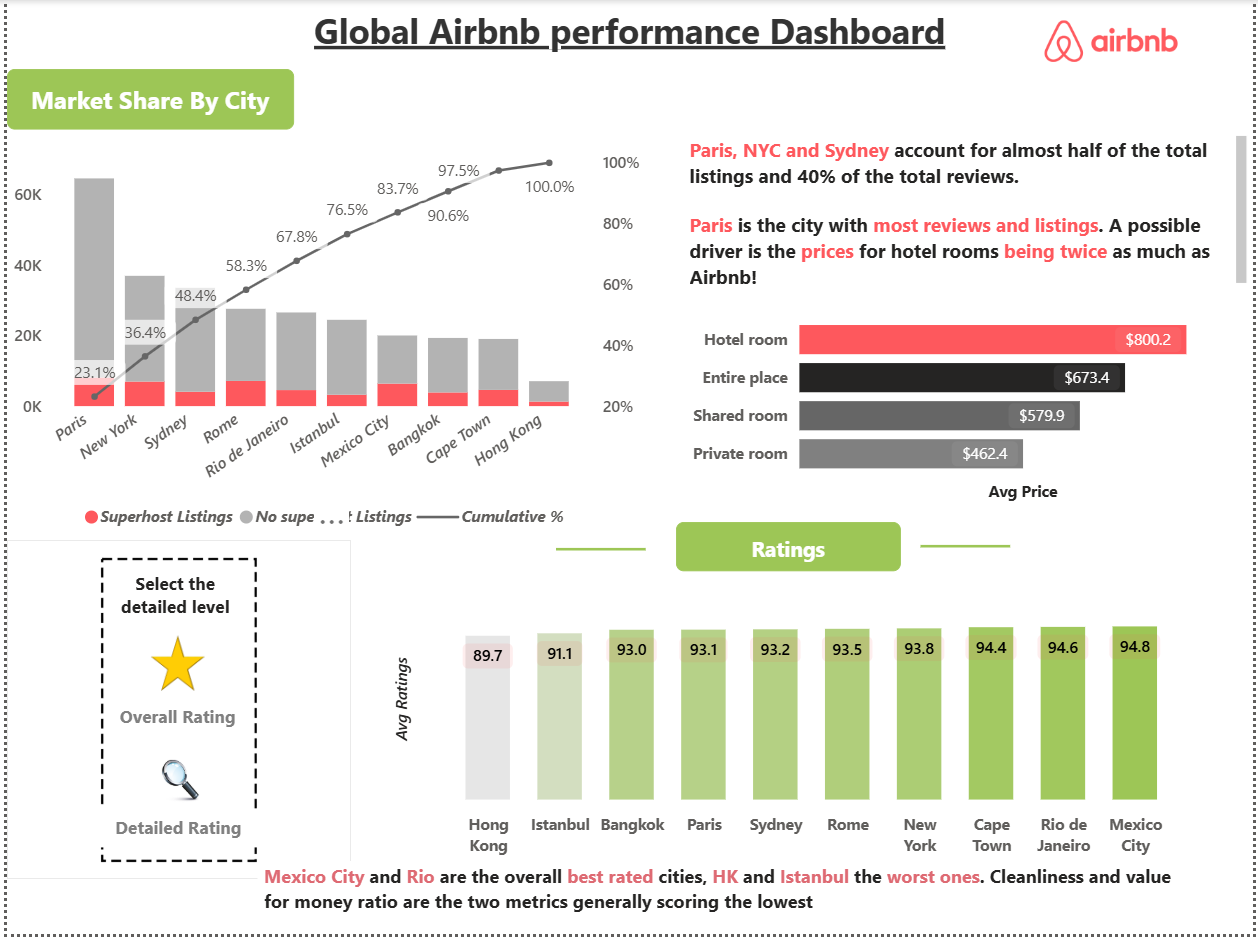

The page's visual inventory and layout, read from the dashboard file:
{"tool":"powerbi","page":{"name":"Ratings","canvas":[960,720],"ordinal":1},"visuals":[{"type":"textbox","box":[187.3,0,585.4,62.4],"z":0},{"type":"image","box":[98.6,484.1,66.9,53.3],"z":0,"group":"g2"},{"type":"image","box":[98.7,580.9,69.4,42.7],"z":0,"group":"g1"},{"type":"image","box":[772.4,9.9,157.3,42.5],"z":1000},{"type":"textbox","box":[76.7,537.4,110.6,36],"z":1000,"group":"g2"},{"type":"textbox","box":[70.4,623.6,123.2,30.2],"z":1000,"group":"g1"},{"type":"textbox","box":[0,52.8,221.3,46.5],"z":2000},{"type":"lineStackedColumnComboChart","fields":{"Y":["Listings.Superhost Listings","Listings.No superhost Listings"],"Category":["Listings.city"],"Y2":["Listings.Cumulative %"]},"box":[0,108.1,492.9,308],"z":3000},{"type":"barChart","fields":{"Y":["Listings.Avg Price"],"Category":["Listings.room_type"]},"box":[521.8,225.1,438.8,166],"z":4000},{"type":"textbox","box":[521.8,99.3,438.8,125.7],"z":5000},{"type":"image","box":[0,416.2,265.3,261.5],"z":6000},{"type":"textbox","box":[76.7,435,106.9,49],"z":7000},{"type":"textbox","box":[515.5,402.3,173.5,37.7],"z":8000},{"type":"shape","box":[704.1,404.9,69.2,32.7],"z":9000},{"type":"shape","box":[423.7,407.4,69.2,32.7],"z":10000},{"type":"group","id":"g1","title":"Group 2","box":[70.4,580.9,123.2,72.9],"z":13625},{"type":"columnChart","fields":{"Category":["Listings.city"],"Y":["Listings.Avg Ratings"]},"box":[287.9,452.6,628.6,216.3],"z":13750},{"type":"group","id":"g2","title":"Group 1","box":[76.7,484.1,110.6,89.3],"z":14000},{"type":"textbox","box":[193.6,663.9,735.5,56.6],"z":15000}]}

Visuals, with their boxes in screenshot pixels (x1, y1, x2, y2), scaled from the page's 960x720 canvas onto the 1258x937 screenshot:
textbox: pyautogui.locateOnScreen(245, 0, 1013, 81)
image: pyautogui.locateOnScreen(129, 630, 217, 699)
image: pyautogui.locateOnScreen(129, 756, 220, 812)
image: pyautogui.locateOnScreen(1012, 13, 1218, 68)
textbox: pyautogui.locateOnScreen(101, 699, 245, 746)
textbox: pyautogui.locateOnScreen(92, 812, 254, 851)
textbox: pyautogui.locateOnScreen(0, 69, 290, 129)
lineStackedColumnComboChart - Listings.Superhost Listings x Listings.No superhost Listings: pyautogui.locateOnScreen(0, 141, 646, 542)
barChart - Listings.Avg Price x Listings.room_type: pyautogui.locateOnScreen(684, 293, 1257, 509)
textbox: pyautogui.locateOnScreen(684, 129, 1257, 293)
image: pyautogui.locateOnScreen(0, 542, 348, 882)
textbox: pyautogui.locateOnScreen(101, 566, 241, 630)
textbox: pyautogui.locateOnScreen(676, 524, 903, 573)
shape: pyautogui.locateOnScreen(923, 527, 1013, 569)
shape: pyautogui.locateOnScreen(555, 530, 646, 573)
"Group 2" group: pyautogui.locateOnScreen(92, 756, 254, 851)
columnChart - Listings.city x Listings.Avg Ratings: pyautogui.locateOnScreen(377, 589, 1201, 870)
"Group 1" group: pyautogui.locateOnScreen(101, 630, 245, 746)
textbox: pyautogui.locateOnScreen(254, 864, 1218, 936)
